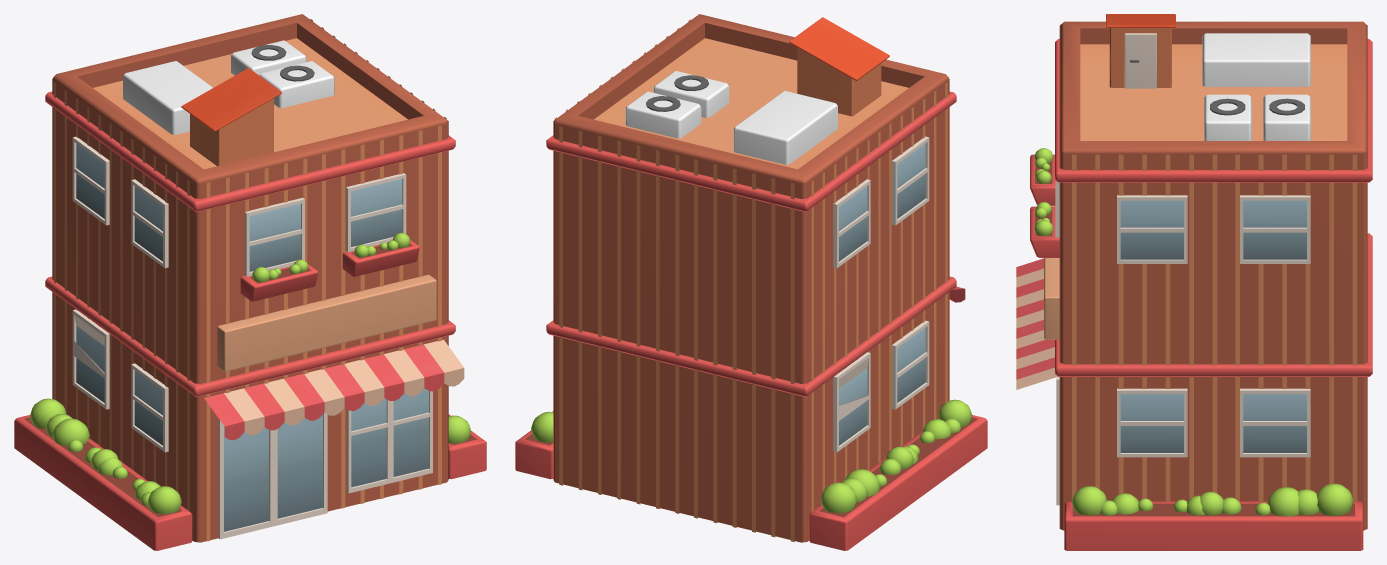
Rendered from Decor_Nha_01.fbx.
3 views of the same model, side by side, from view 1: azimuth 30°, elevation 25°; view 2: azimuth 150°, elevation 25°; view 3: azimuth 270°, elevation 25° (orthographic). The views are drawn at different scales.
Parts seen in each view (by area): view 1: Decor_Nha_01; view 2: Decor_Nha_01; view 3: Decor_Nha_01.
Part boxes in pixels (x1,y1,x2,y2): Decor_Nha_01: [14, 14, 486, 550]; Decor_Nha_01: [515, 14, 987, 550]; Decor_Nha_01: [1016, 14, 1372, 550].
Size of the model in its own units: 2039 by 2398 by 1802.
